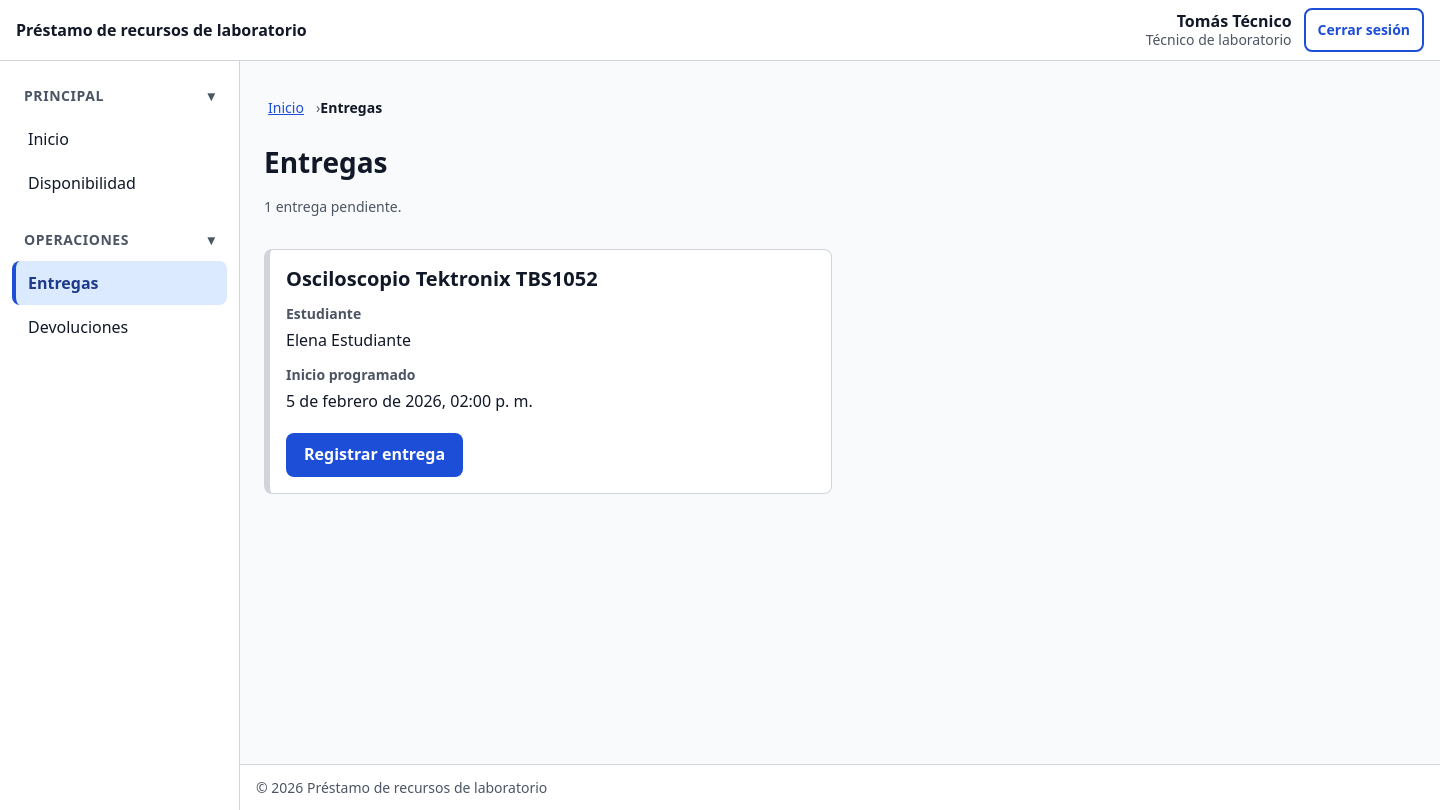
Test case: entregas pendientes (Req 12) › confirmar la entrega pasa el préstamo a En_Préstamo y lo saca de la lista (Req 12.6, 12.9, 12.10)
This screenshot has width=1440, height=810.
Click the button with aria-label "Registrar entrega:": {"x": 375, "y": 455} x1=286 y1=433 x2=463 y2=477
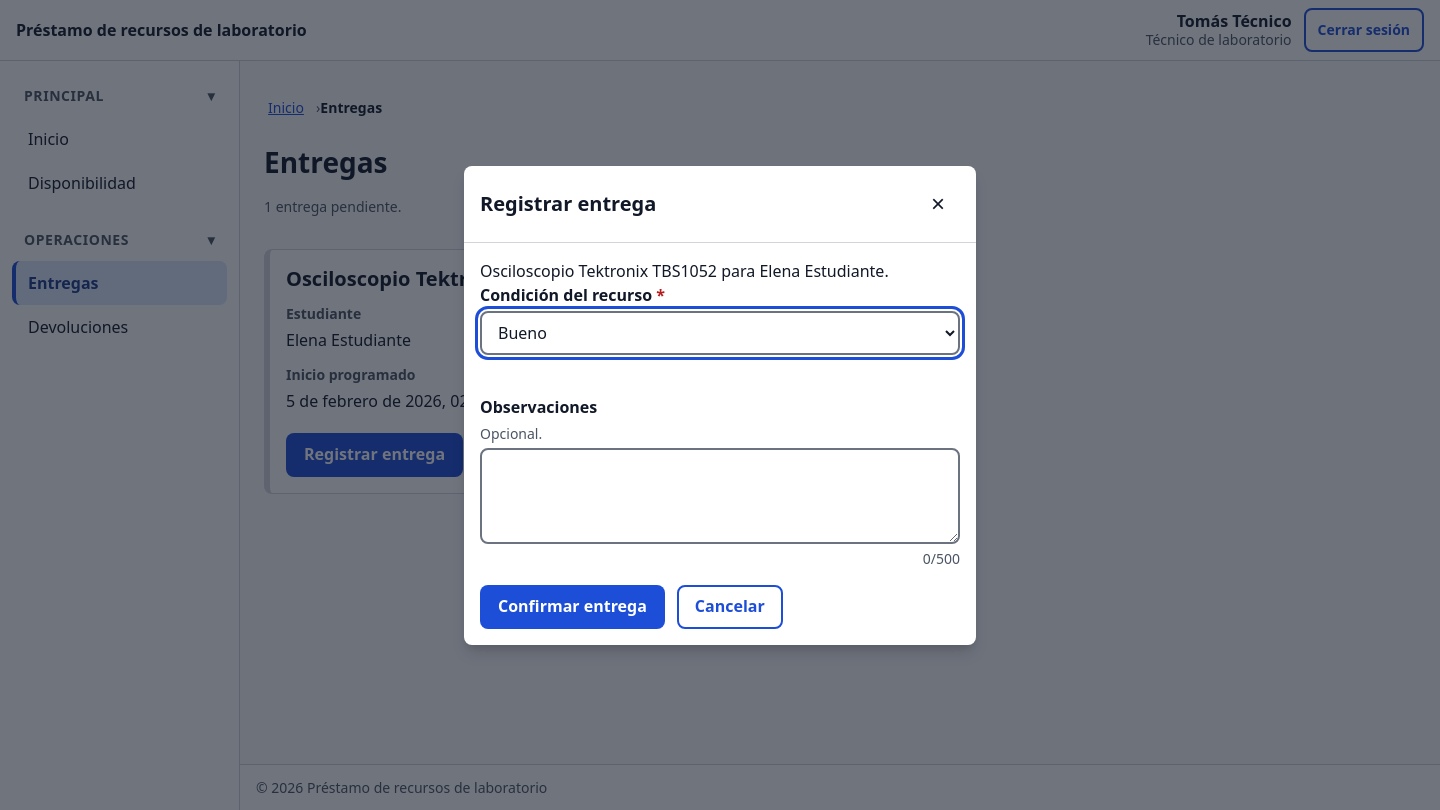
In the text box labelled "Observaciones": {"x": 720, "y": 496} x1=480 y1=448 x2=960 y2=544, type "Con sus cables"
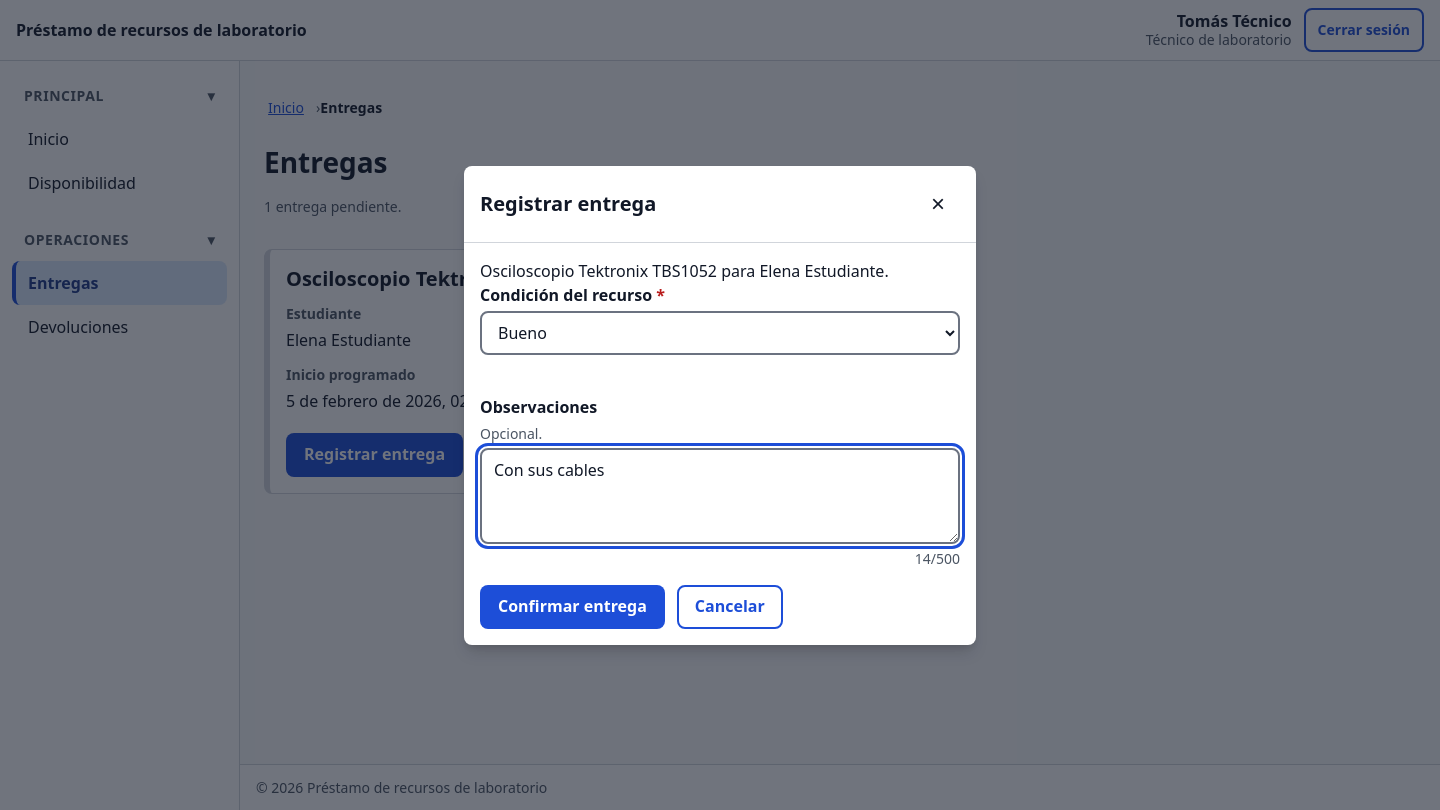
Click the button "Confirmar entrega": {"x": 572, "y": 606} x1=480 y1=584 x2=665 y2=628
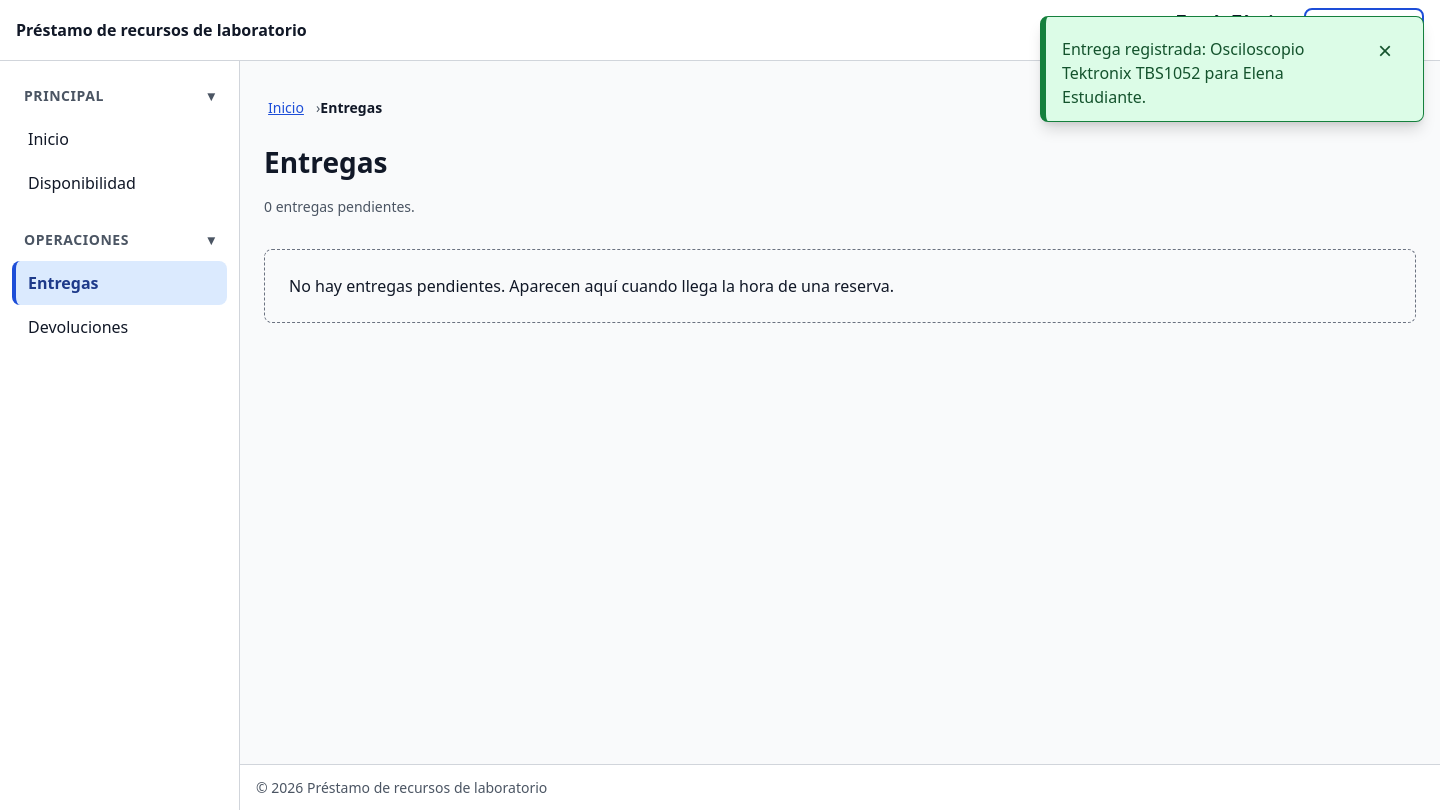
Expected: the text "Entrega registrada: Osciloscopio Tektronix TBS1052 para Elena Estudiante." is shown, x1=1062 y1=38 x2=1304 y2=108
Expected: the dialog is gone
Expected: the text "No hay entregas pendientes" is shown, x1=289 y1=275 x2=894 y2=297
